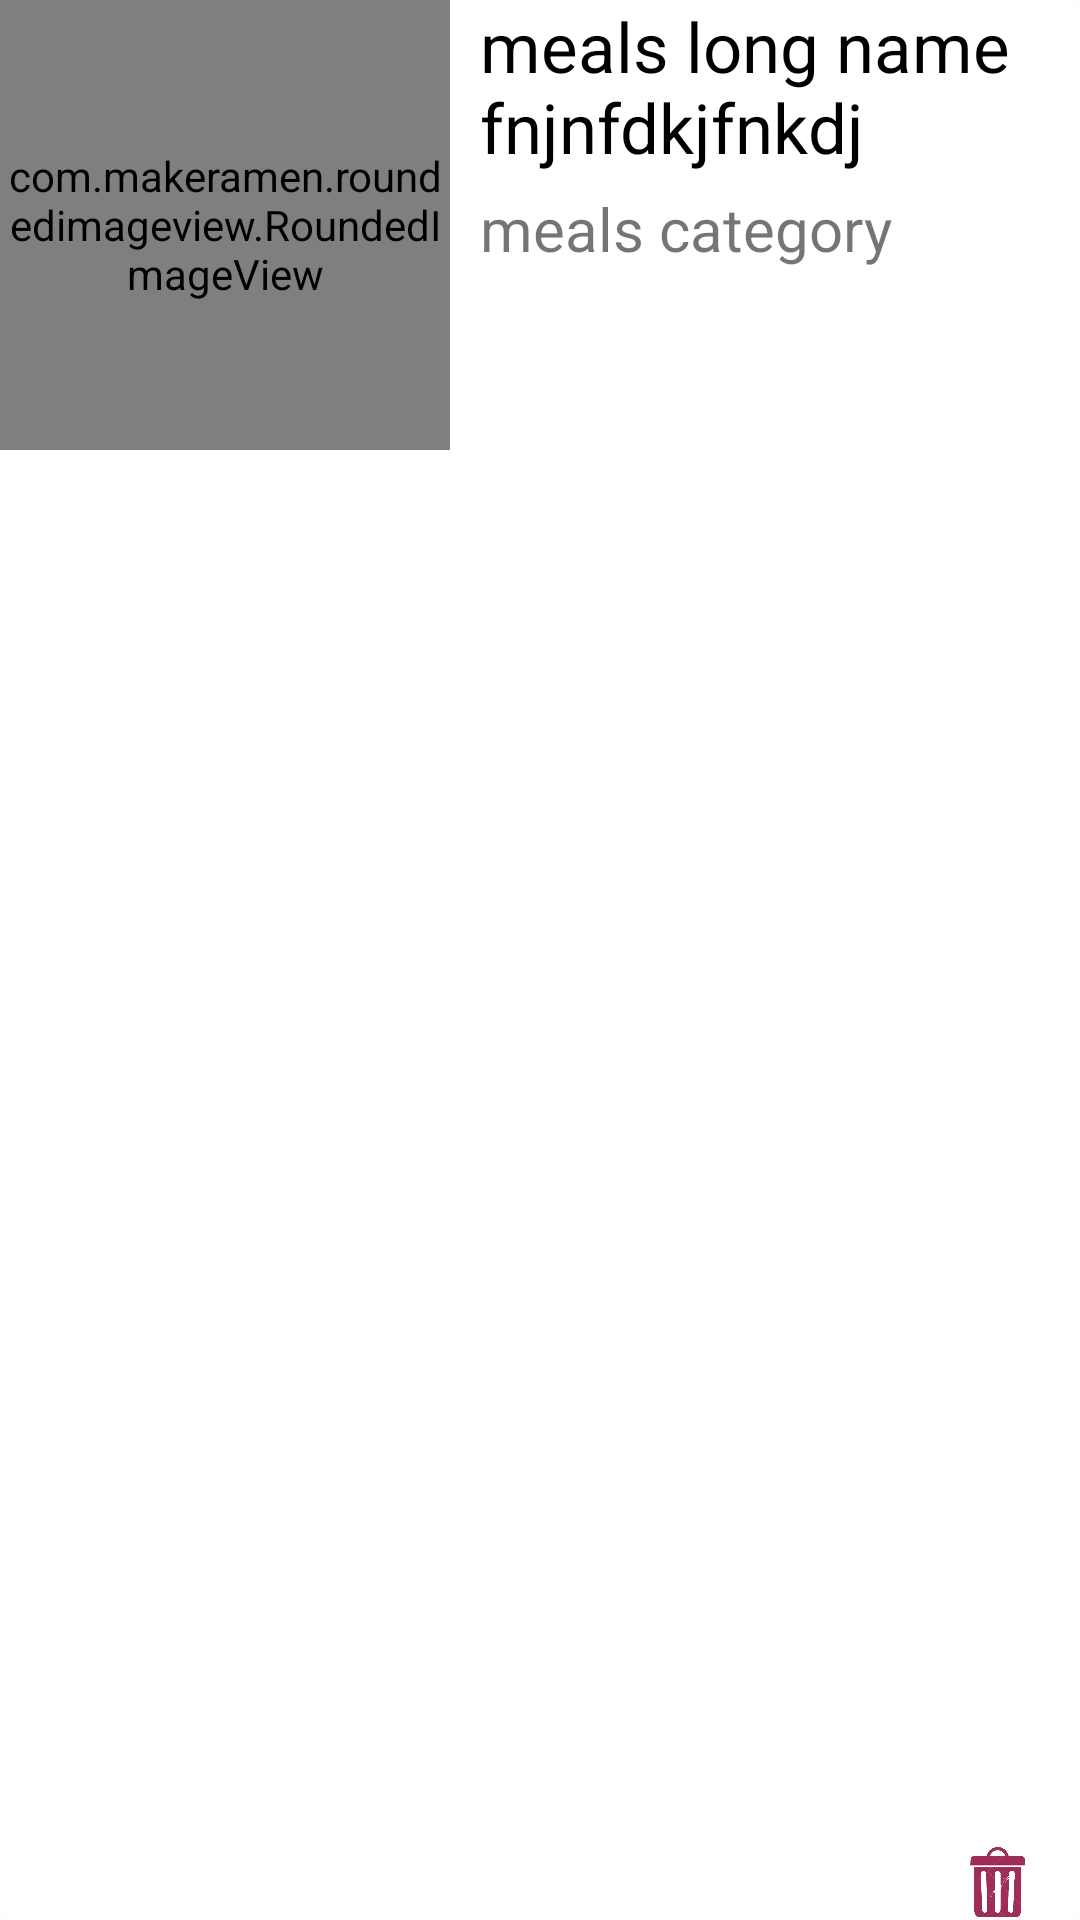

Point at icon controls on the screen. Image size 1080 × 1920, points as point (x, y).
trash: point (997, 1882)
